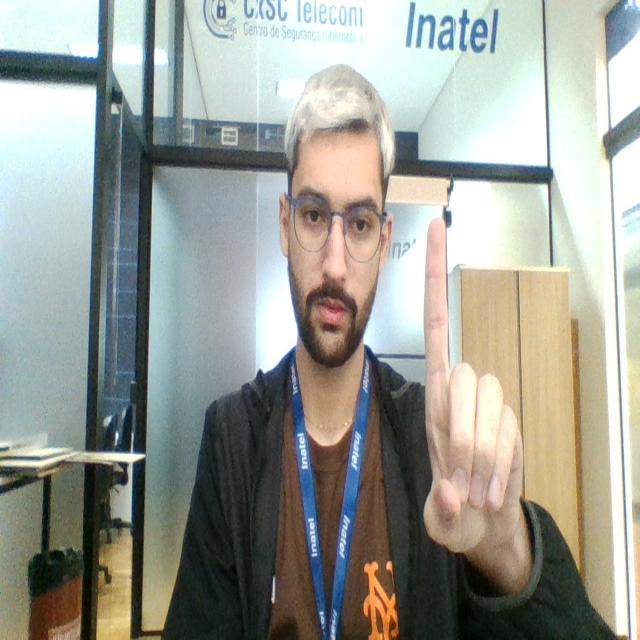D2: (414, 210, 528, 565)
